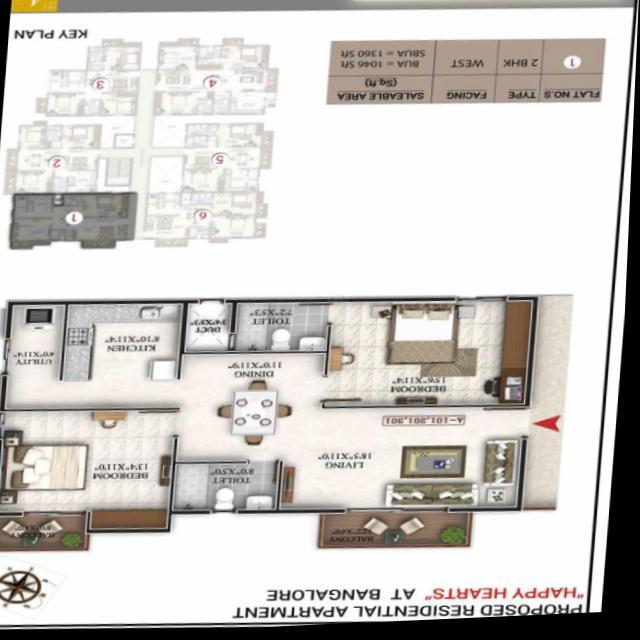Balcony-Sitout: (327, 517, 472, 547), (0, 516, 89, 547)
Bedroom: (0, 412, 176, 510)
Bedroom with Toilet: (235, 303, 538, 410)
Dining: (219, 376, 300, 450)
Enterance-Foyer: (507, 413, 566, 445)
Kitchen: (62, 305, 185, 409)
Living: (284, 412, 527, 512)
Toilet: (178, 466, 280, 510), (238, 306, 331, 353)
Utility: (11, 305, 67, 408)
